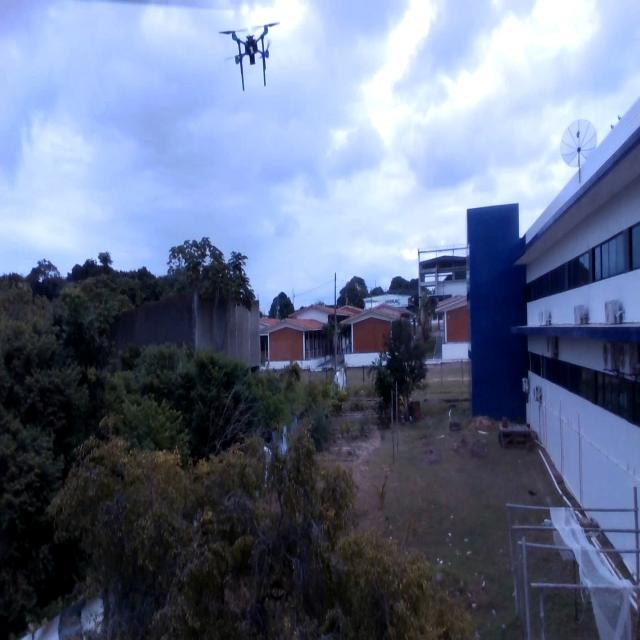-uav-: (216, 14, 286, 106)
